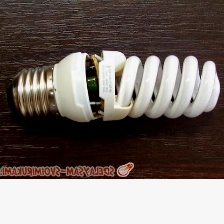light_bulb: (1, 45, 223, 130)
